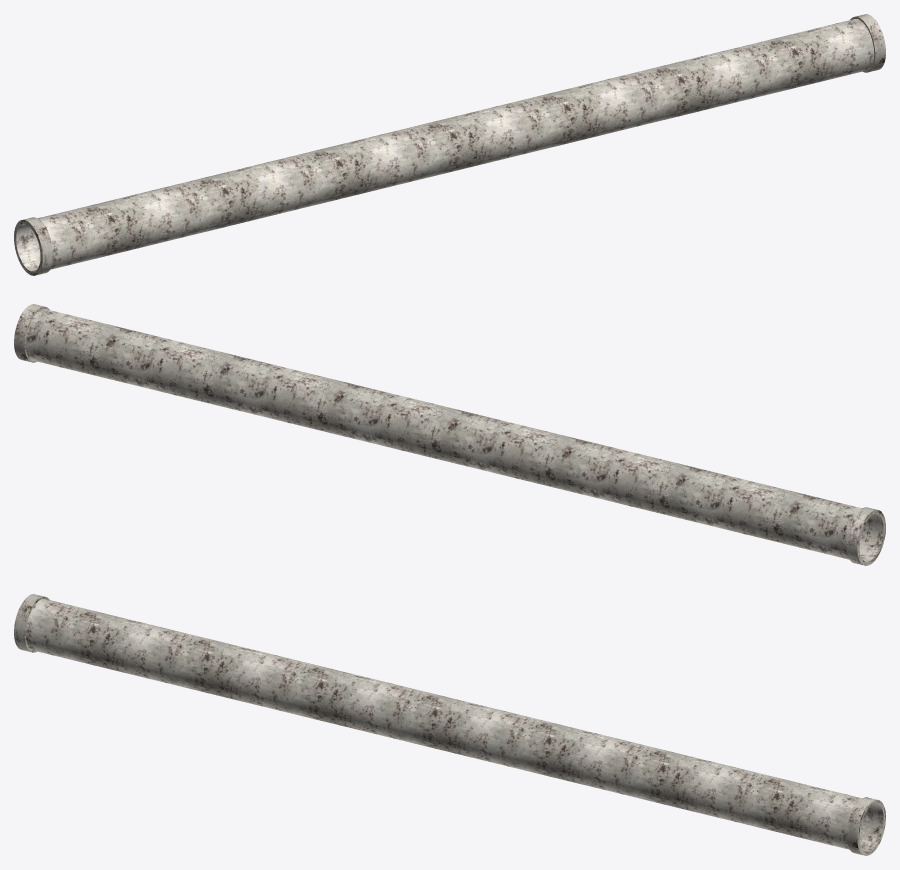
The model's file is pipe.glb.
3 views of the same model, one above another, from view 1: azimuth 30°, elevation 25°; view 2: azimuth 150°, elevation 25°; view 3: azimuth 330°, elevation 25° (orthographic).
Parts seen in each view (by area): view 1: pipe; view 2: pipe; view 3: pipe.
Boxes of the visible parts, bbox=[...] form: pipe: bbox=[14, 14, 885, 275]; pipe: bbox=[14, 304, 885, 565]; pipe: bbox=[14, 594, 885, 855].
Size of the model in its own units: 4.09 by 0.2408 by 0.2408.
1 material, 1 textured.
